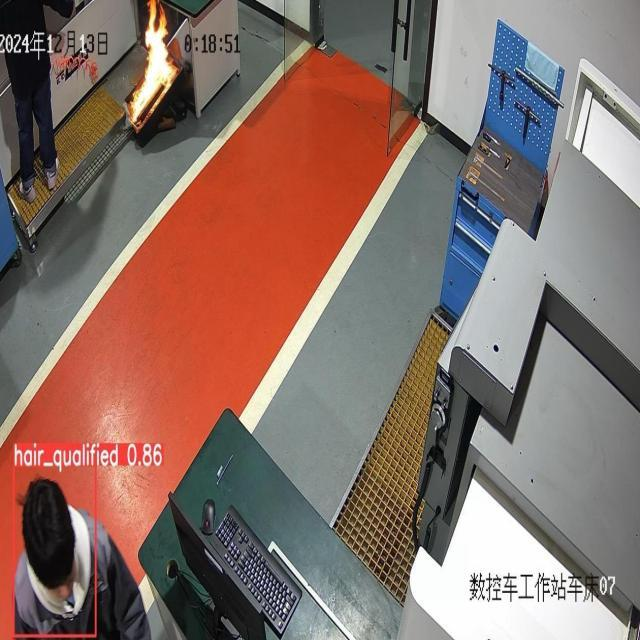smoke: (123, 0, 180, 135)
